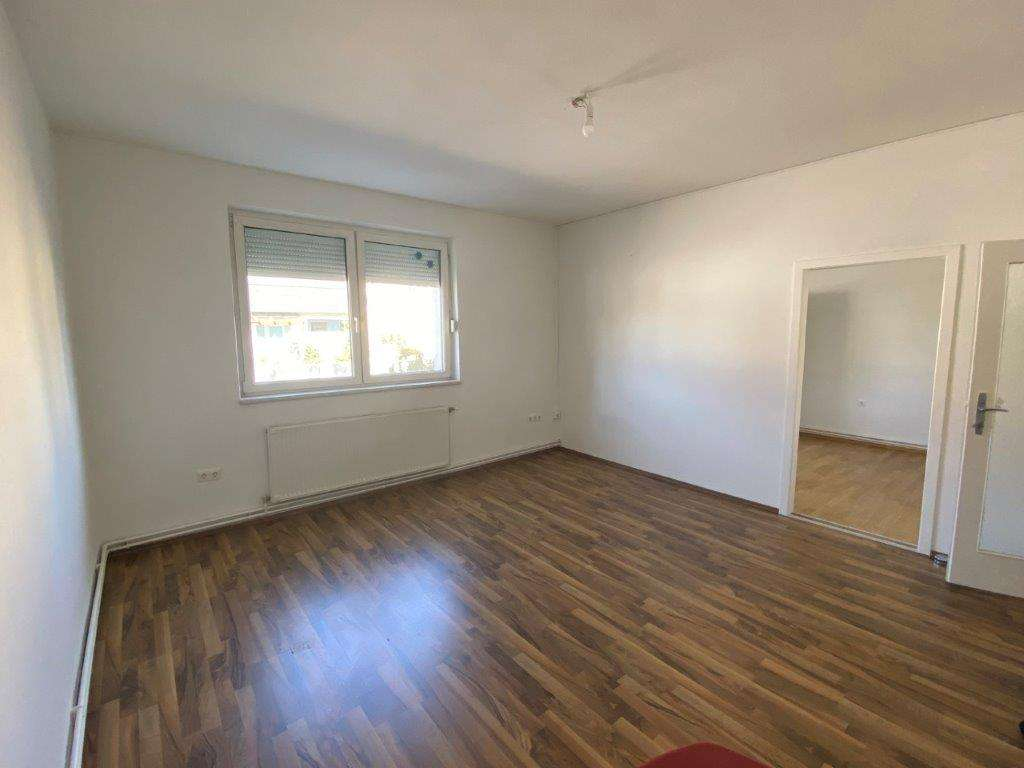door: (779, 243, 965, 558)
wall: (562, 109, 1021, 609), (50, 129, 559, 553), (1, 1, 98, 765)
window: (227, 207, 460, 399)
